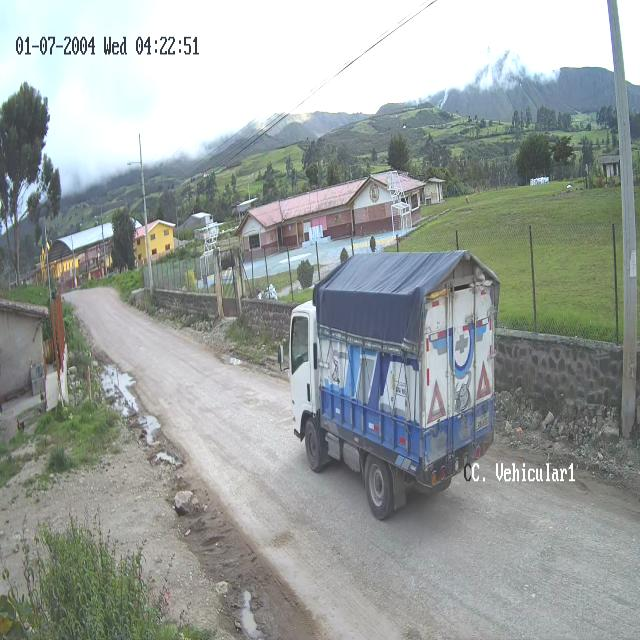TRUCK: (284, 252, 501, 522)
